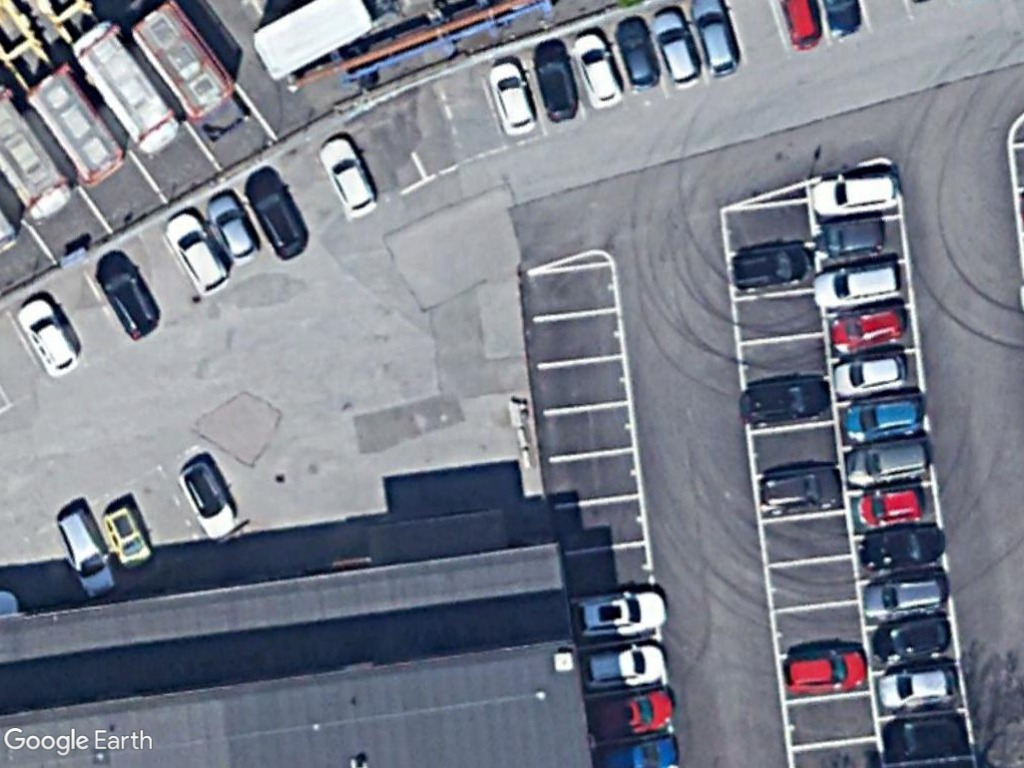car: (567, 583, 676, 649), (162, 206, 238, 299), (242, 163, 311, 262), (94, 249, 169, 339), (8, 290, 84, 378), (173, 458, 250, 544), (804, 255, 910, 316), (51, 507, 121, 598), (806, 161, 907, 223), (853, 568, 959, 626), (316, 133, 385, 222), (774, 641, 874, 702), (837, 431, 939, 488), (851, 524, 952, 580), (724, 239, 816, 299), (481, 54, 544, 141), (837, 391, 933, 447), (735, 372, 834, 426), (755, 462, 847, 520), (869, 659, 960, 717), (576, 639, 675, 692), (523, 34, 580, 123), (827, 300, 913, 358), (199, 183, 262, 262), (648, 1, 705, 88), (566, 28, 626, 110), (849, 480, 932, 537), (688, 0, 745, 81), (830, 345, 916, 396), (811, 207, 890, 262), (609, 11, 665, 88), (98, 494, 153, 565)
